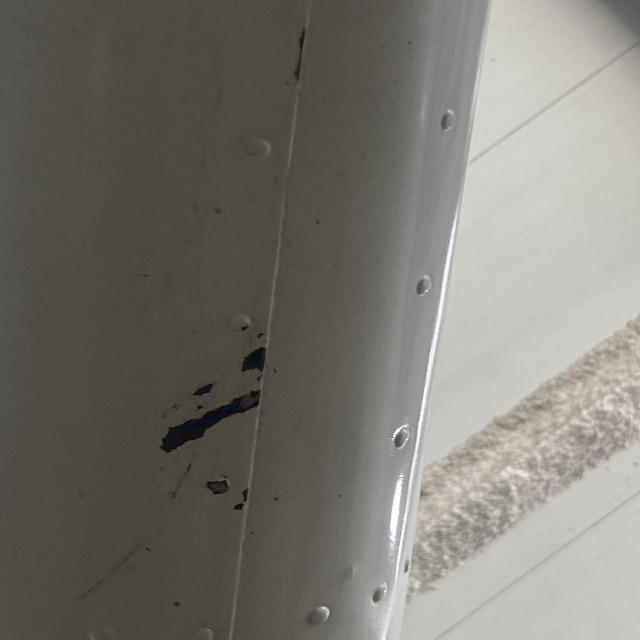Paint-off: (159, 390, 259, 453), (241, 347, 264, 373), (204, 479, 231, 496)
